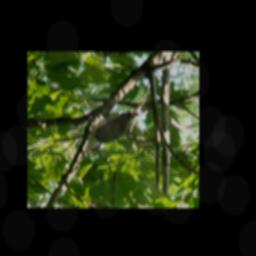Cuckoo: (84, 93, 152, 154)
